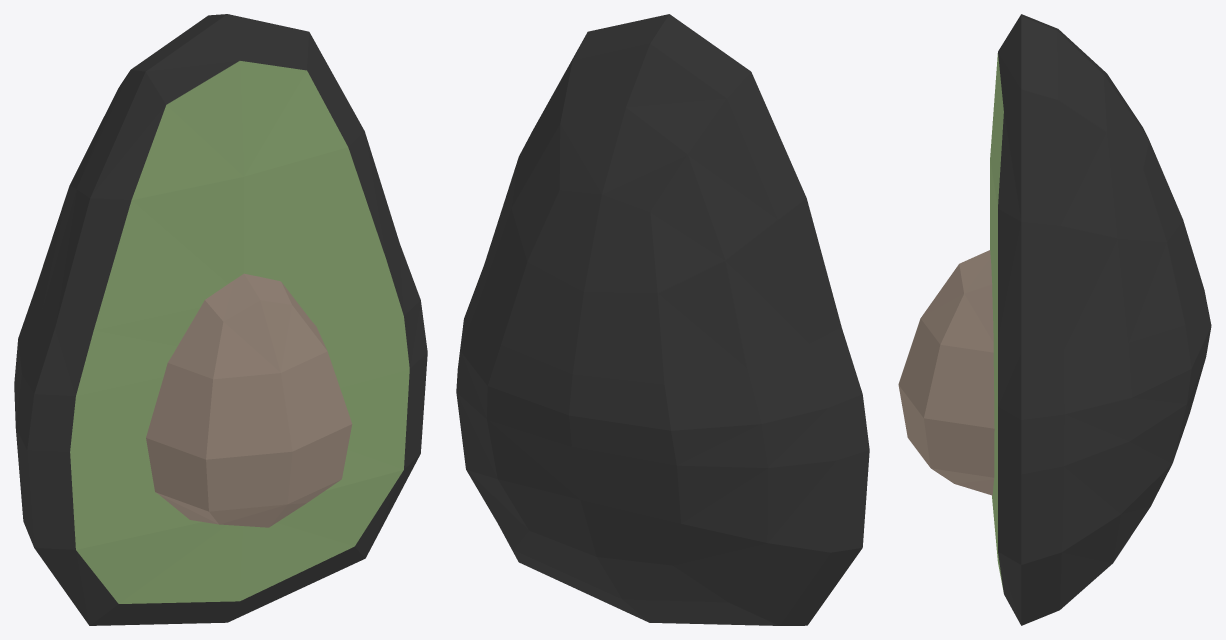
The model's file is Avocado.glb.
3 renders of one model, left to right at view 1: azimuth 30°, elevation 25°; view 2: azimuth 150°, elevation 25°; view 3: azimuth 270°, elevation 25°, orthographic. The views are drawn at different scales.
Visible parts, largest first — view 1: Avocado; view 2: Avocado; view 3: Avocado.
Boxes of the visible parts, <box> form: Avocado: <box>14,14,427,625</box>; Avocado: <box>456,14,869,625</box>; Avocado: <box>898,14,1211,625</box>.
Bounding box in the file's own units: 0.7531 × 1.09 × 0.5398.
